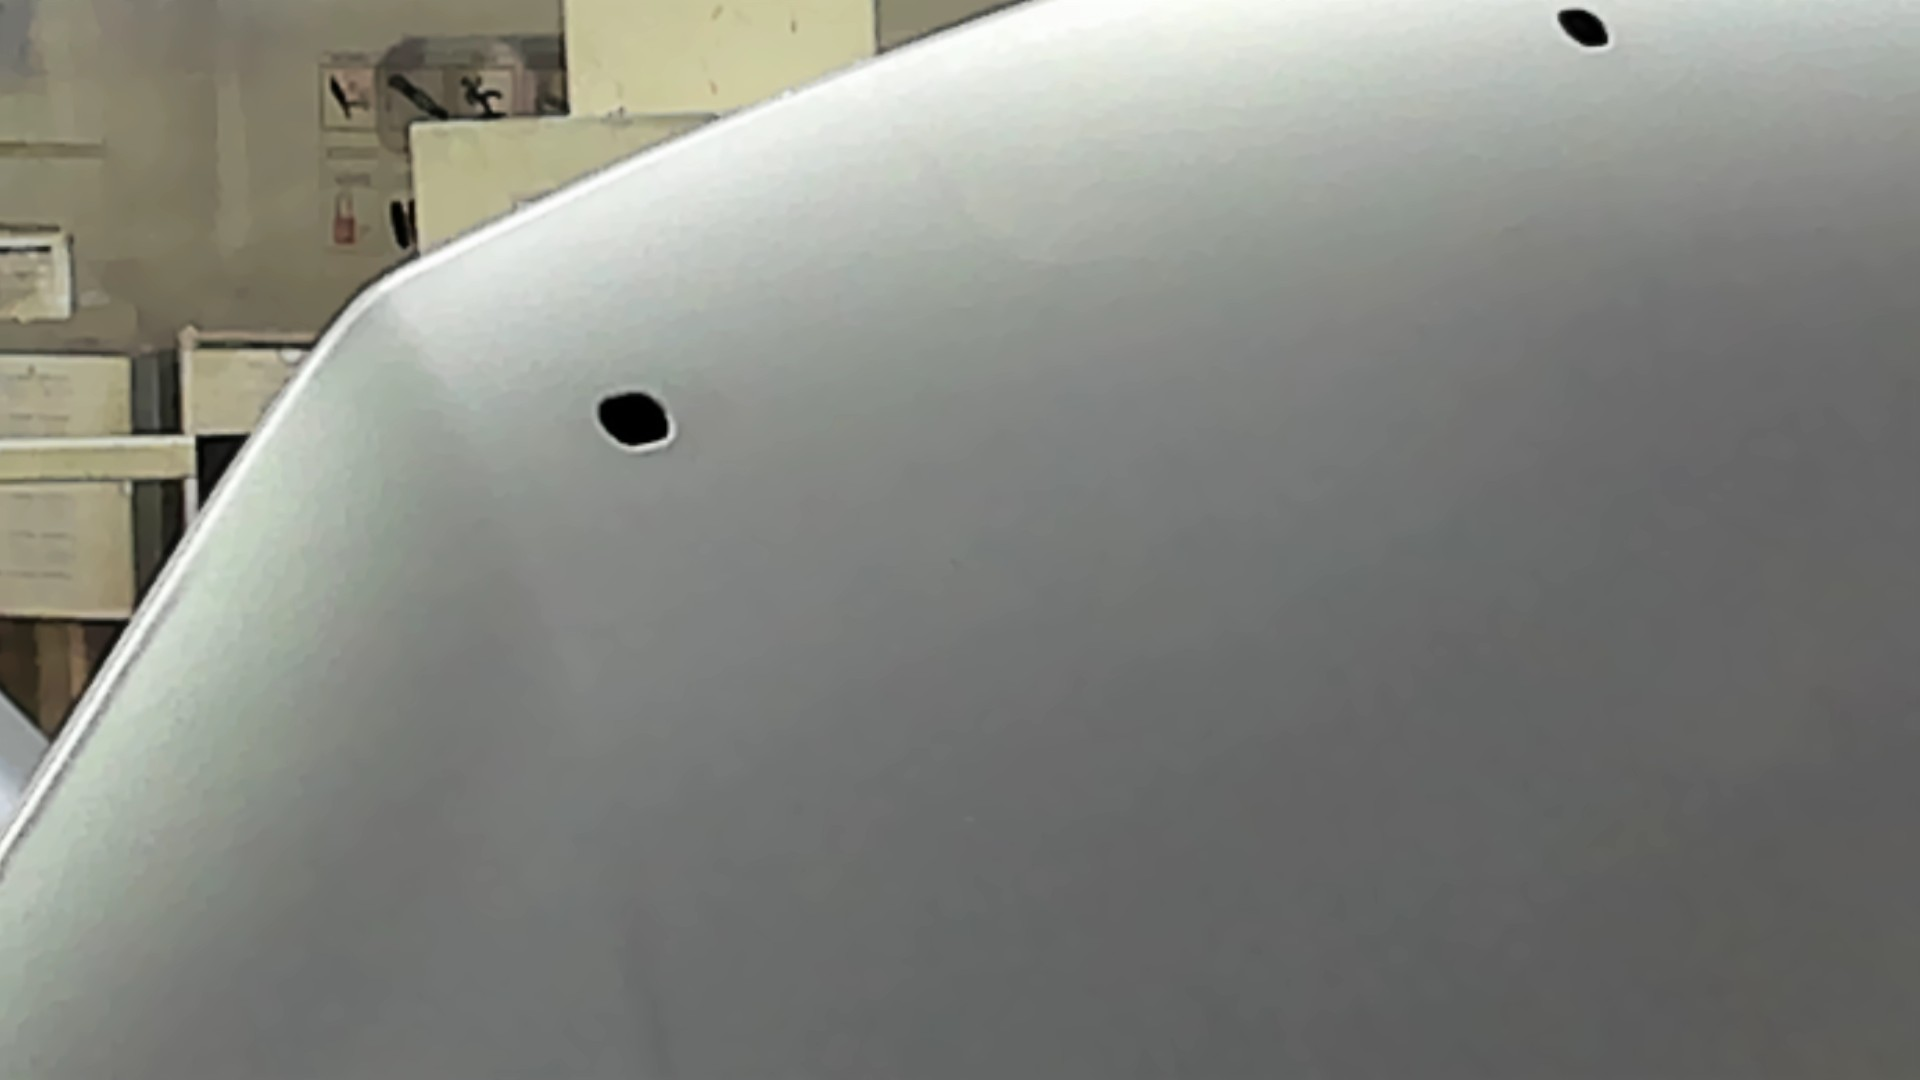amorfo: (592, 385, 679, 455), (1552, 4, 1619, 51)
